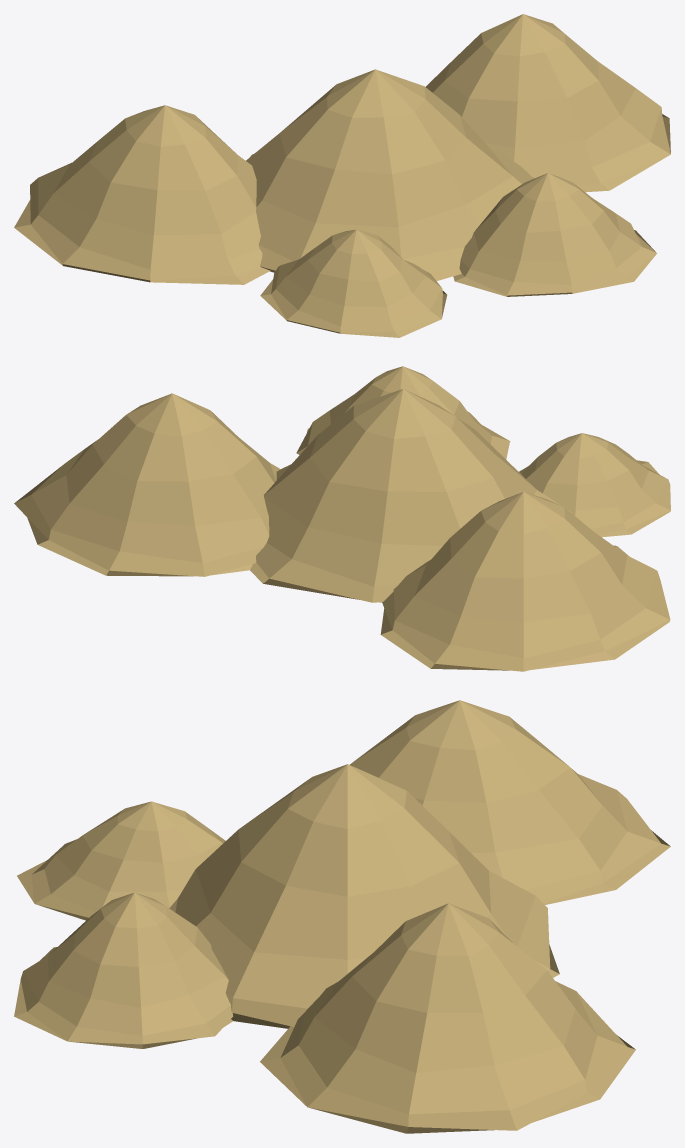
The model's file is SandMounds.fbx.
3 renders of one model, top to bottom at view 1: azimuth 30°, elevation 25°; view 2: azimuth 150°, elevation 25°; view 3: azimuth 270°, elevation 25°, orthographic. The views are drawn at different scales.
Visible parts, largest first — view 1: SandMounds_SandMat; view 2: SandMounds_SandMat; view 3: SandMounds_SandMat.
Part boxes in pixels (<box>): SandMounds_SandMat: <box>14,14,670,337</box>; SandMounds_SandMat: <box>14,366,670,671</box>; SandMounds_SandMat: <box>14,700,670,1133</box>.
Size of the model in its own units: 1546 by 350 by 1172.
